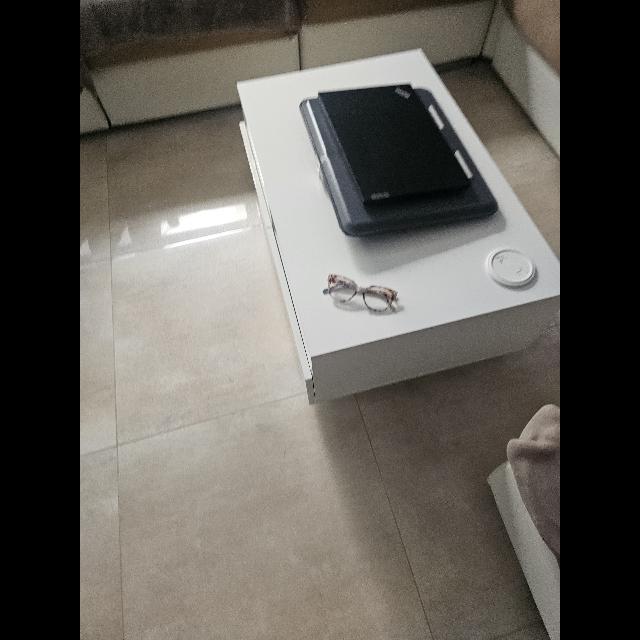glasses: (323, 274, 397, 312)
